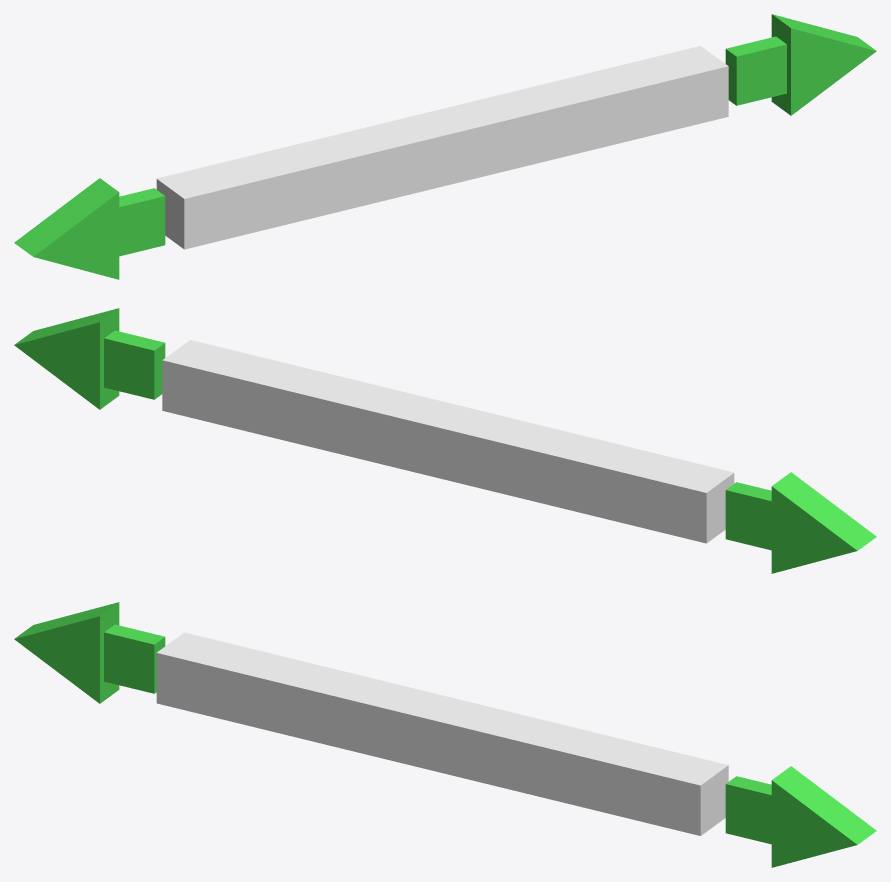
File: paddle_size_up_final.fbx
The picture shows the model from 3 angles, top to bottom: view 1: azimuth 30°, elevation 25°; view 2: azimuth 150°, elevation 25°; view 3: azimuth 330°, elevation 25°; orthographic projection.
Visible parts, largest first — view 1: Paddle Size Up; view 2: Paddle Size Up; view 3: Paddle Size Up.
Boxes of the visible parts, x1=… form: Paddle Size Up: x1=14, y1=14, x2=876, y2=279; Paddle Size Up: x1=14, y1=308, x2=876, y2=573; Paddle Size Up: x1=14, y1=602, x2=876, y2=867.
Size of the model in its own units: 175 by 17.34 by 10.
